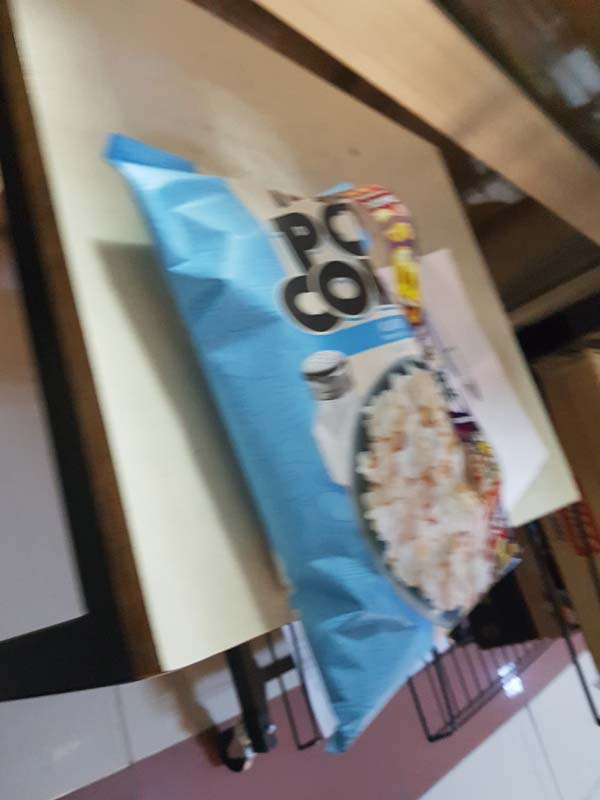popcorn: (99, 117, 531, 761)
